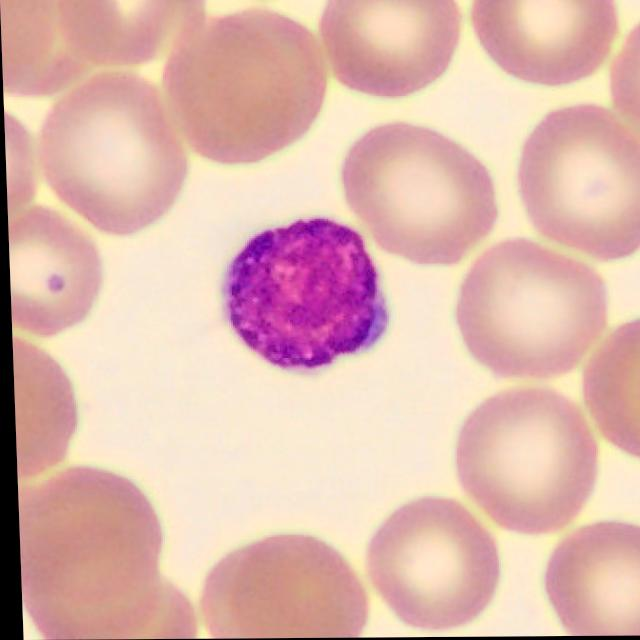Linfocito: (224, 219, 384, 368)
